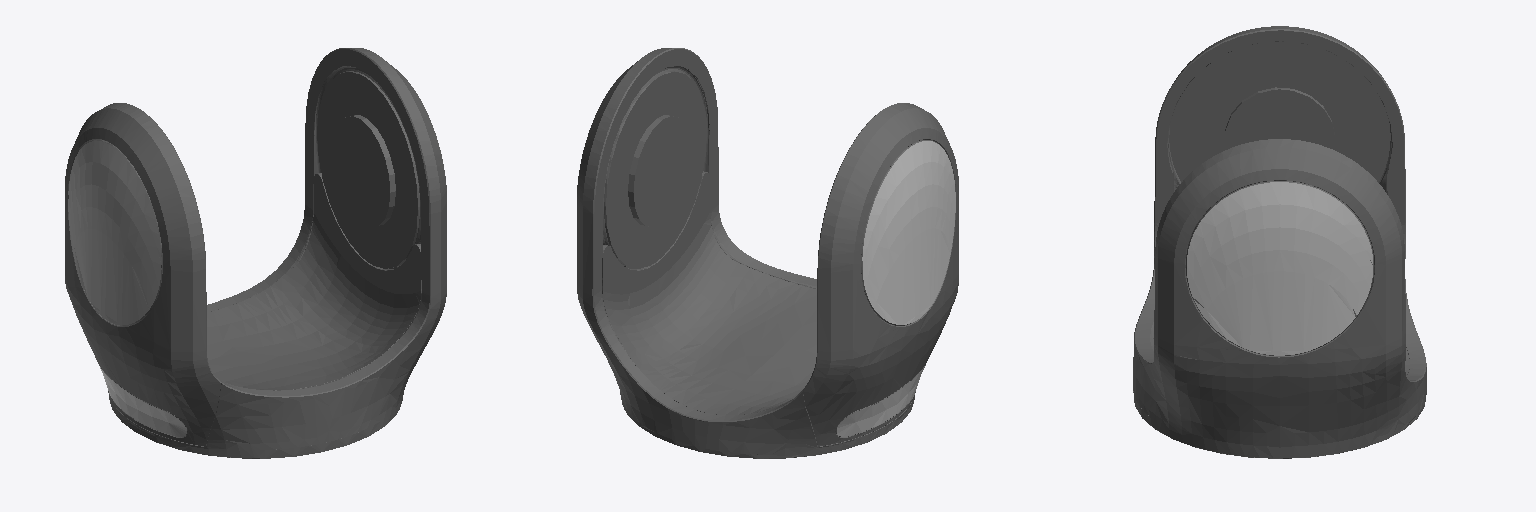
The picture shows the model from 3 angles: view 1: azimuth 30°, elevation 25°; view 2: azimuth 150°, elevation 25°; view 3: azimuth 270°, elevation 25°; orthographic projection.
Visible parts, largest first — view 1: left_shoulder_pitch_link; view 2: left_shoulder_pitch_link; view 3: left_shoulder_pitch_link.
Part boxes in pixels (x1,y1,x2,y2): left_shoulder_pitch_link: (65, 48, 446, 458); left_shoulder_pitch_link: (577, 48, 958, 458); left_shoulder_pitch_link: (1133, 26, 1426, 458).
Size of the model in its own units: 0.107 by 0.1164 by 0.09.